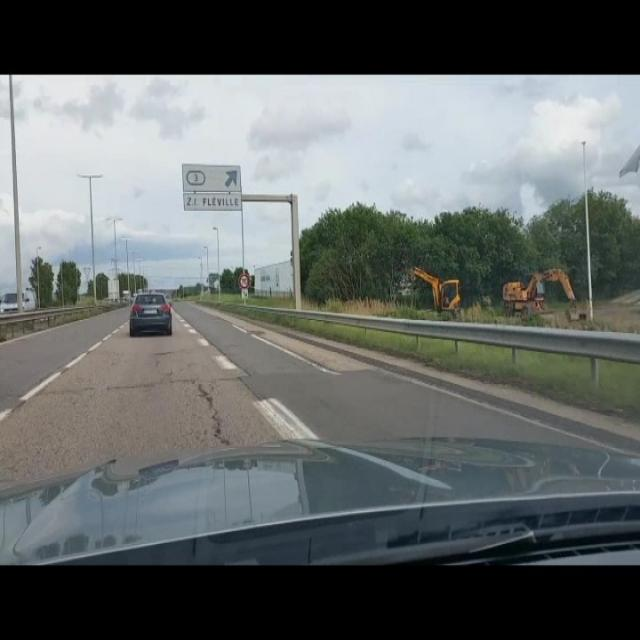direction: (184, 166, 242, 210)
side_right: (242, 289, 248, 299)
speed_70: (238, 274, 251, 289)
